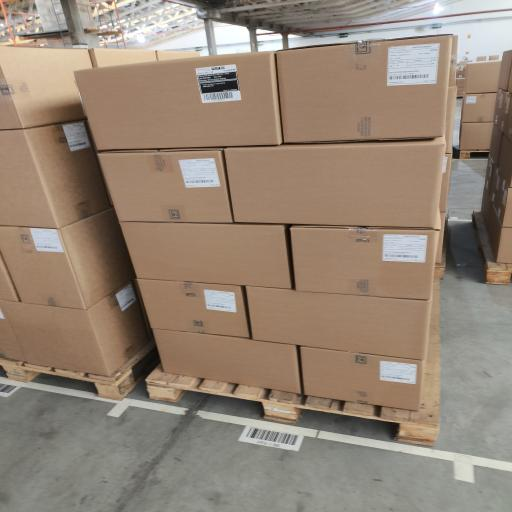pallet: (146, 279, 440, 445), (0, 342, 159, 400), (472, 211, 511, 284), (434, 219, 450, 279), (459, 150, 488, 159)
